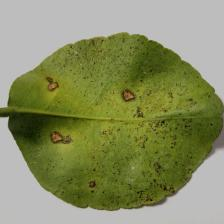canker: (25, 58, 185, 196)
